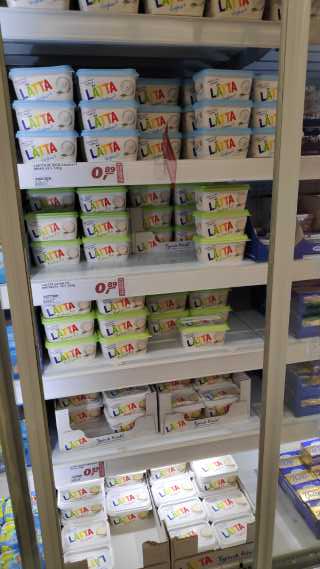laetta: (9, 67, 76, 99), (73, 69, 140, 101), (10, 101, 77, 133), (75, 101, 142, 133), (14, 133, 81, 165), (188, 68, 255, 100), (187, 103, 254, 135), (176, 314, 232, 349), (106, 483, 150, 527), (187, 130, 249, 160), (78, 133, 141, 162), (193, 184, 250, 215), (194, 454, 239, 492), (192, 214, 250, 242), (60, 521, 110, 553), (157, 498, 207, 529), (193, 238, 247, 266), (200, 489, 250, 519), (102, 385, 150, 416), (135, 76, 187, 104), (203, 382, 243, 418), (42, 315, 95, 342), (46, 337, 99, 364), (97, 309, 150, 336), (98, 336, 151, 363), (75, 186, 126, 213), (78, 212, 129, 239), (78, 241, 129, 268), (26, 213, 77, 240), (29, 239, 80, 266), (138, 105, 182, 135), (55, 478, 104, 504), (24, 188, 76, 211), (208, 1, 267, 19), (42, 299, 93, 319), (96, 295, 147, 314), (128, 183, 168, 207), (128, 208, 168, 232), (128, 234, 168, 258), (190, 287, 230, 310), (146, 291, 183, 310)
